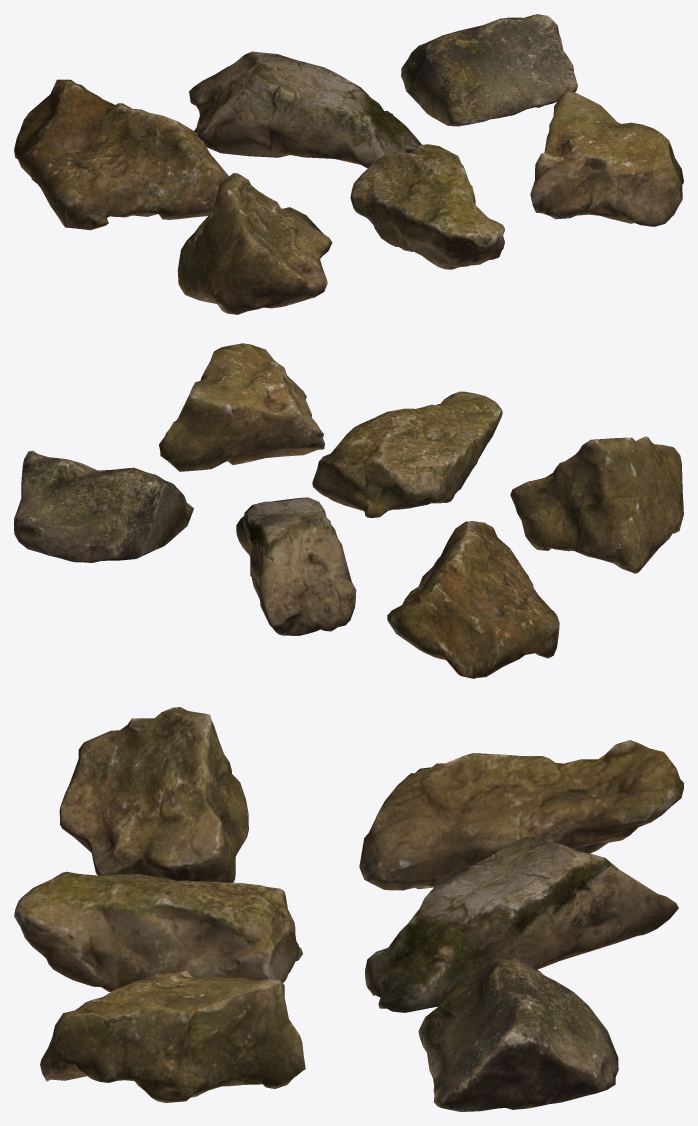
Rendered from rock_moss_set_01.glb.
3 views of the same model, one above another, from view 1: azimuth 30°, elevation 25°; view 2: azimuth 150°, elevation 25°; view 3: azimuth 270°, elevation 25° (orthographic). The views are drawn at different scales.
Parts seen in each view (by area): view 1: rock_moss_set_01_rock01, rock_moss_set_01_rock02, rock_moss_set_01_rock06, rock_moss_set_01_rock04, rock_moss_set_01_rock03, rock_moss_set_01_rock05; view 2: rock_moss_set_01_rock04, rock_moss_set_01_rock01, rock_moss_set_01_rock05, rock_moss_set_01_rock03, rock_moss_set_01_rock06, rock_moss_set_01_rock02; view 3: rock_moss_set_01_rock01, rock_moss_set_01_rock02, rock_moss_set_01_rock05, rock_moss_set_01_rock04, rock_moss_set_01_rock06, rock_moss_set_01_rock03.
Boxes of the visible parts, x1=… form: rock_moss_set_01_rock01: x1=14, y1=79, x2=228, y2=230; rock_moss_set_01_rock02: x1=189, y1=51, x2=421, y2=168; rock_moss_set_01_rock06: x1=530, y1=89, x2=683, y2=226; rock_moss_set_01_rock04: x1=177, y1=173, x2=332, y2=314; rock_moss_set_01_rock03: x1=401, y1=14, x2=577, y2=126; rock_moss_set_01_rock05: x1=350, y1=144, x2=504, y2=269; rock_moss_set_01_rock04: x1=510, y1=436, x2=683, y2=573; rock_moss_set_01_rock01: x1=387, y1=521, x2=559, y2=678; rock_moss_set_01_rock05: x1=312, y1=391, x2=502, y2=517; rock_moss_set_01_rock03: x1=14, y1=450, x2=193, y2=562; rock_moss_set_01_rock06: x1=159, y1=343, x2=324, y2=471; rock_moss_set_01_rock02: x1=236, y1=497, x2=356, y2=635; rock_moss_set_01_rock01: x1=359, y1=740, x2=683, y2=890; rock_moss_set_01_rock02: x1=365, y1=836, x2=678, y2=1012; rock_moss_set_01_rock05: x1=14, y1=871, x2=302, y2=991; rock_moss_set_01_rock04: x1=59, y1=707, x2=248, y2=882; rock_moss_set_01_rock06: x1=40, y1=970, x2=305, y2=1102; rock_moss_set_01_rock03: x1=418, y1=956, x2=618, y2=1111.
Size of the model in its own units: 8 by 1.76 by 6.94.
Materials: 1 (1 with a texture image).
